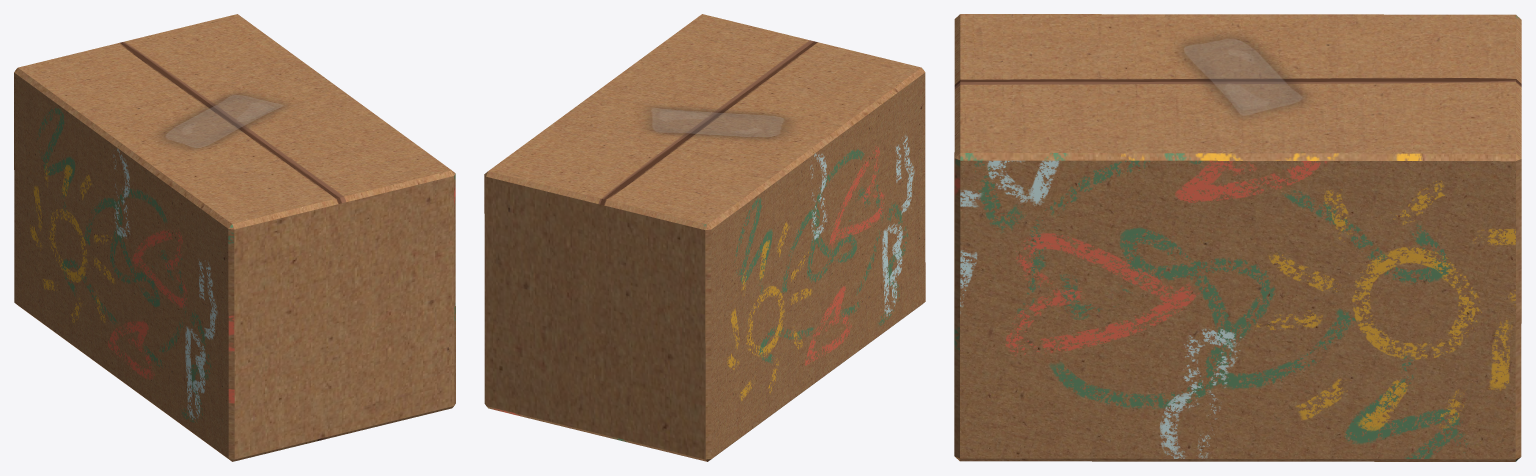
The model's file is Box_Ver1.fbx.
The picture shows the model from 3 angles, left to right: view 1: azimuth 30°, elevation 25°; view 2: azimuth 150°, elevation 25°; view 3: azimuth 270°, elevation 25°; orthographic projection. The views are drawn at different scales.
Parts seen in each view (by area): view 1: Cube; view 2: Cube; view 3: Cube.
Part boxes in pixels (x1,y1,x2,y2): Cube: (14,14,455,461); Cube: (484,14,925,461); Cube: (954,14,1521,461).
Size of the model in its own units: 300 by 301 by 500.
